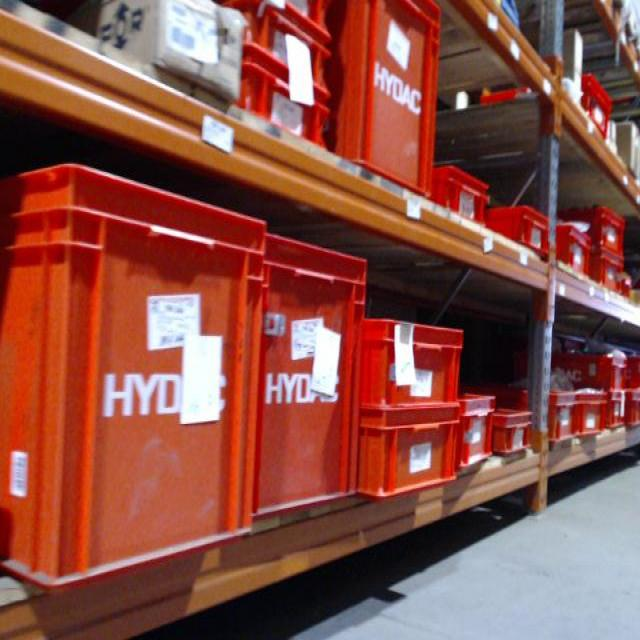small_load_carrier: (5, 162, 261, 590), (256, 233, 366, 510), (323, 1, 440, 201), (362, 316, 464, 428), (213, 61, 330, 148), (211, 4, 330, 80), (356, 412, 460, 498), (512, 386, 608, 435), (534, 344, 626, 388), (432, 166, 492, 226), (462, 389, 497, 480), (551, 223, 597, 292), (488, 205, 549, 257), (572, 206, 628, 260), (512, 400, 582, 442), (251, 4, 334, 32), (582, 71, 612, 144), (493, 407, 532, 449), (597, 259, 625, 294), (606, 393, 628, 428), (626, 351, 639, 386), (627, 396, 639, 421)
